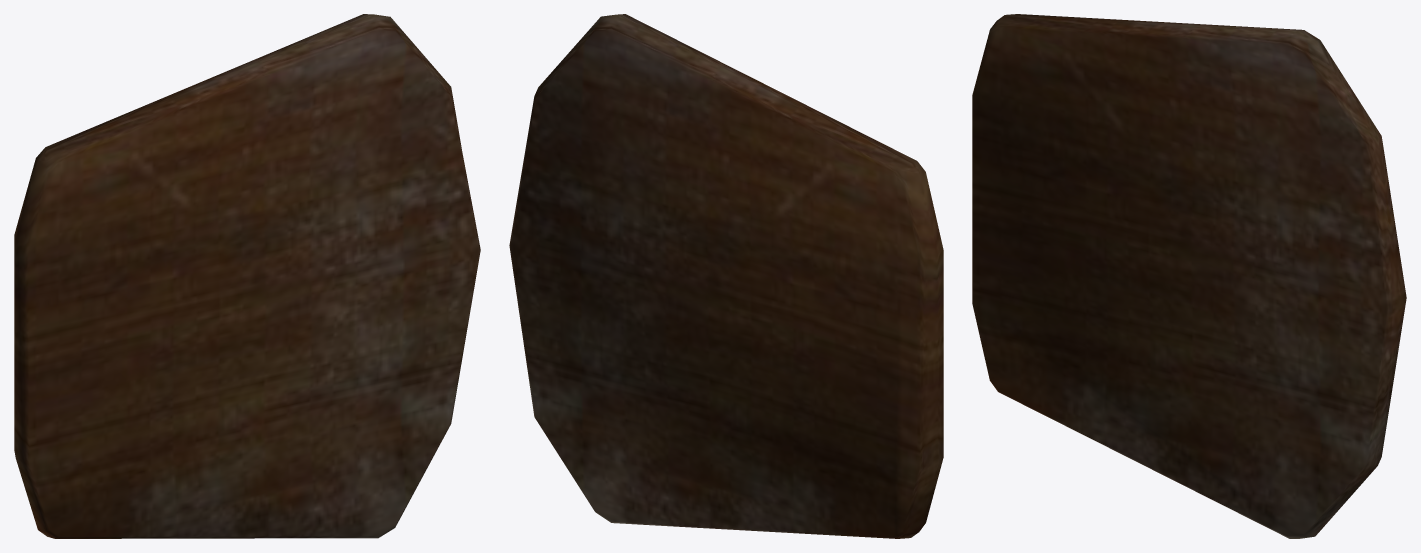
Rendered from furniture_plainchair_shardseat.glb.
3 renders of one model, left to right at view 1: azimuth 30°, elevation 25°; view 2: azimuth 150°, elevation 25°; view 3: azimuth 330°, elevation 25°, orthographic. The views are drawn at different scales.
Size of the model in its own units: 22.51 by 25.02 by 2.75.
Materials: 1 (1 with a texture image).
